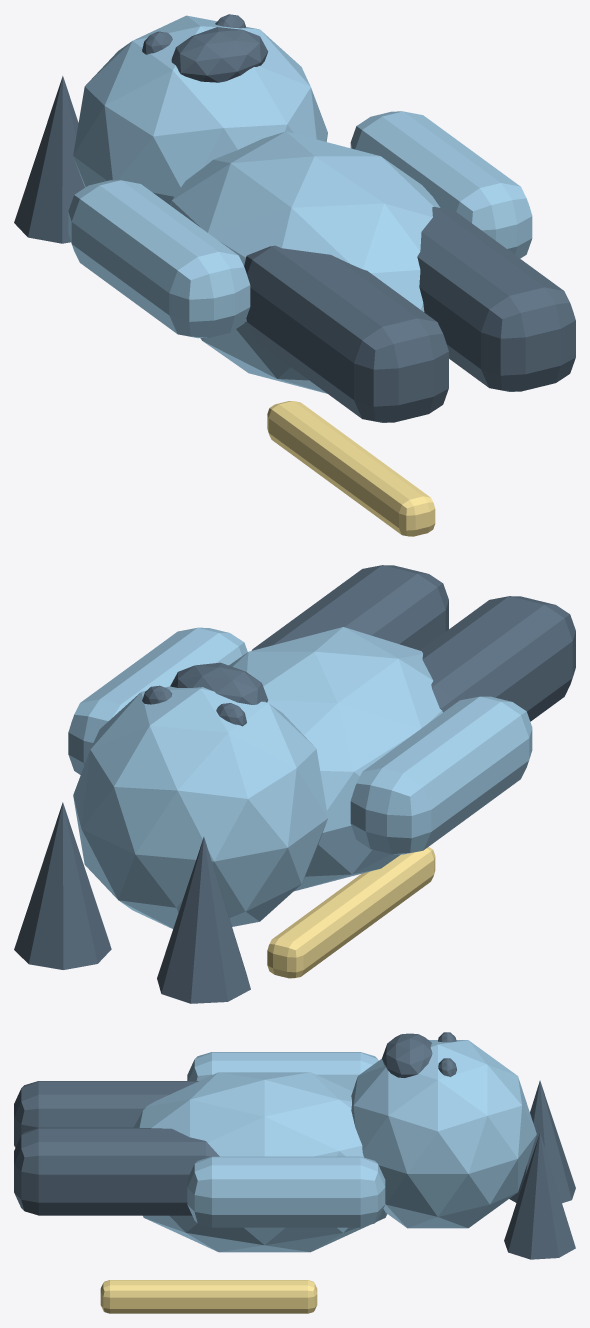
Rendered from riolu.glb.
3 views of the same model, one above another, from view 1: azimuth 30°, elevation 25°; view 2: azimuth 150°, elevation 25°; view 3: azimuth 270°, elevation 25° (orthographic). The views are drawn at different scales.
Parts seen in each view (by area): view 1: body, head, legL, legR, armL, armR, aura, earL, muzzle; view 2: head, body, armL, legL, legR, earR, aura, earL, armR, muzzle; view 3: head, body, legR, armR, aura, legL, earR, armL, earL, muzzle.
Boxes of the visible parts, left/top/right/bottom form: body: left=170, top=131, right=440, bottom=393; head: left=73, top=15, right=327, bottom=204; legL: left=244, top=245, right=448, bottom=422; legR: left=417, top=207, right=575, bottom=391; armL: left=68, top=180, right=250, bottom=338; armR: left=350, top=111, right=532, bottom=258; aura: left=267, top=401, right=435, bottom=536; earL: left=14, top=76, right=84, bottom=243; muzzle: left=171, top=27, right=268, bottom=82; head: left=73, top=686, right=327, bottom=928; body: left=229, top=627, right=442, bottom=891; armL: left=350, top=696, right=532, bottom=854; legL: left=420, top=596, right=575, bottom=721; legR: left=251, top=565, right=448, bottom=650; earR: left=14, top=802, right=111, bottom=969; aura: left=267, top=847, right=435, bottom=978; earL: left=157, top=837, right=250, bottom=1003; armR: left=68, top=627, right=247, bottom=774; muzzle: left=170, top=662, right=267, bottom=704; head: left=351, top=1040, right=536, bottom=1228; body: left=133, top=1072, right=387, bottom=1252; legR: left=14, top=1128, right=219, bottom=1215; armR: left=187, top=1156, right=385, bottom=1227; aura: left=100, top=1280, right=317, bottom=1313; legL: left=14, top=1081, right=198, bottom=1147; earR: left=504, top=1133, right=575, bottom=1259; armL: left=187, top=1052, right=378, bottom=1091; earL: left=509, top=1080, right=575, bottom=1203; muzzle: left=382, top=1033, right=432, bottom=1077.
Size of the model in its own units: 1.02 by 0.9715 by 1.82.
